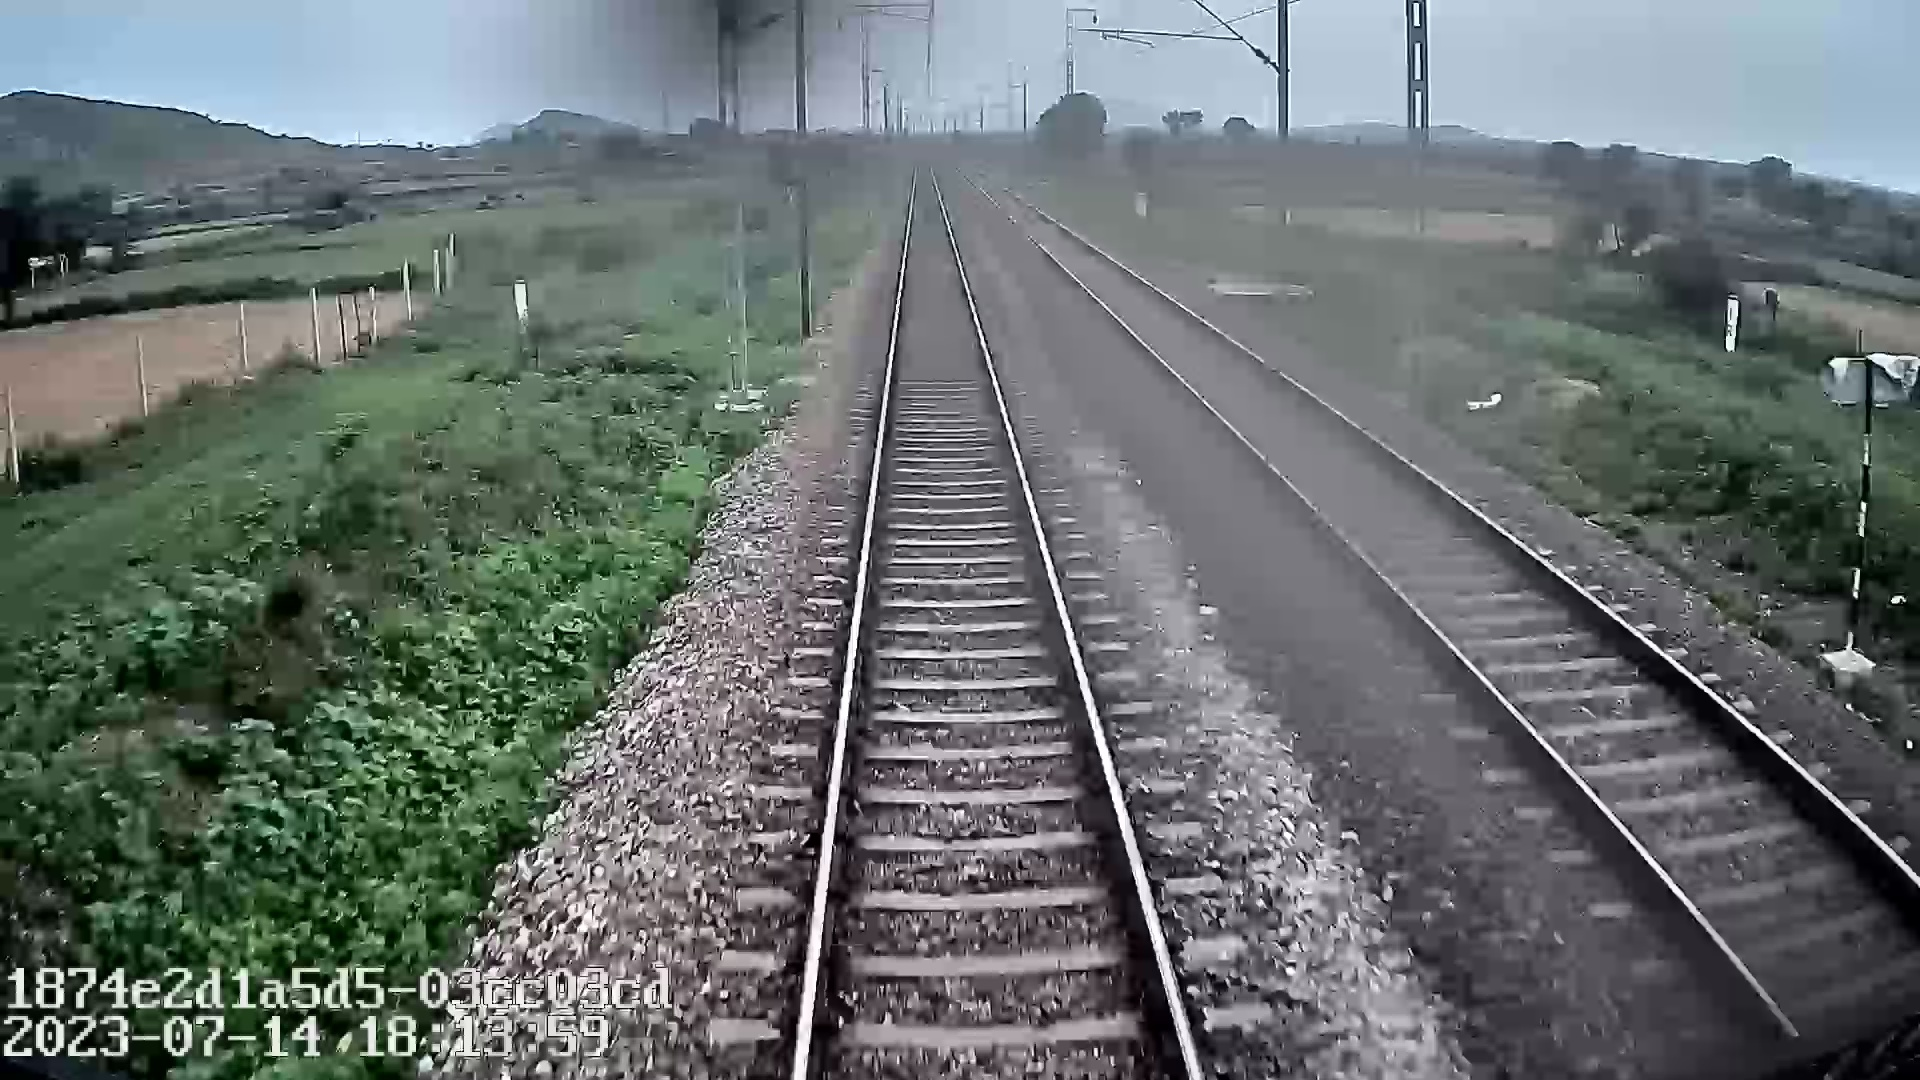track1: (799, 178, 1196, 1073)
track2: (1007, 211, 1919, 1034)
